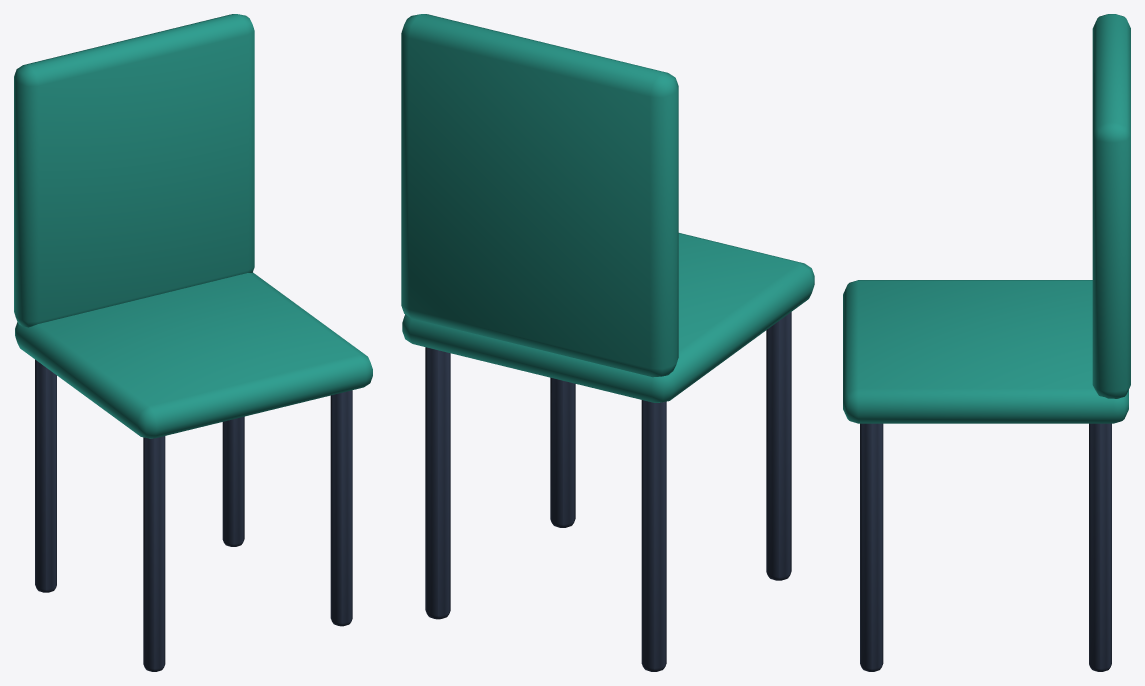
The model's file is f_chair_teal.glb.
3 views of the same model, side by side, from view 1: azimuth 30°, elevation 25°; view 2: azimuth 150°, elevation 25°; view 3: azimuth 270°, elevation 25° (orthographic). The views are drawn at different scales.
Parts seen in each view (by area): view 1: f_chair_teal; view 2: f_chair_teal; view 3: f_chair_teal.
Boxes of the visible parts, bbox=[...] form: f_chair_teal: bbox=[14, 14, 372, 671]; f_chair_teal: bbox=[401, 14, 814, 671]; f_chair_teal: bbox=[843, 14, 1130, 671].
Size of the model in its own units: 0.75 by 1.6 by 0.755.
